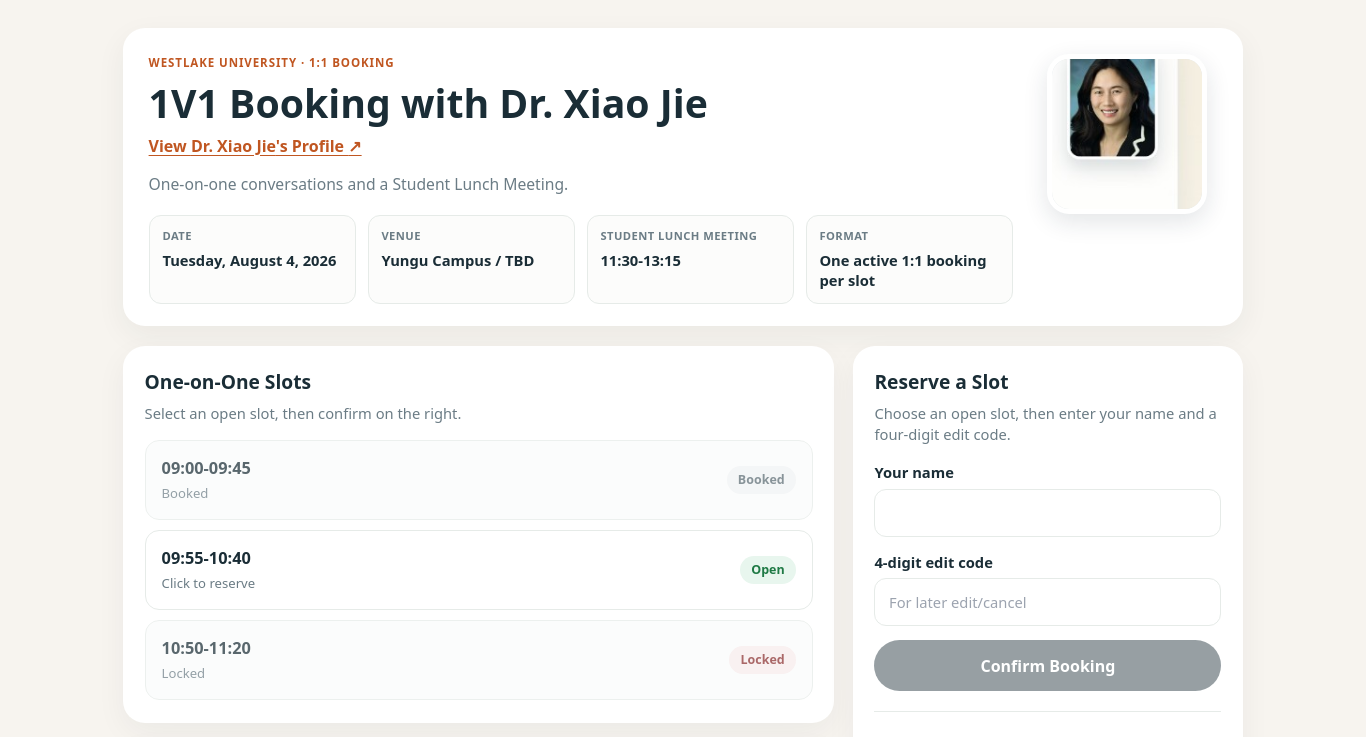
Scenario: keeps typed name and edit code after a booking conflict
The width and height of the screenshot is (1366, 737).
Click the button with aria-label "09:55-10:40 Open" at (183,558), box [145, 530, 813, 610]
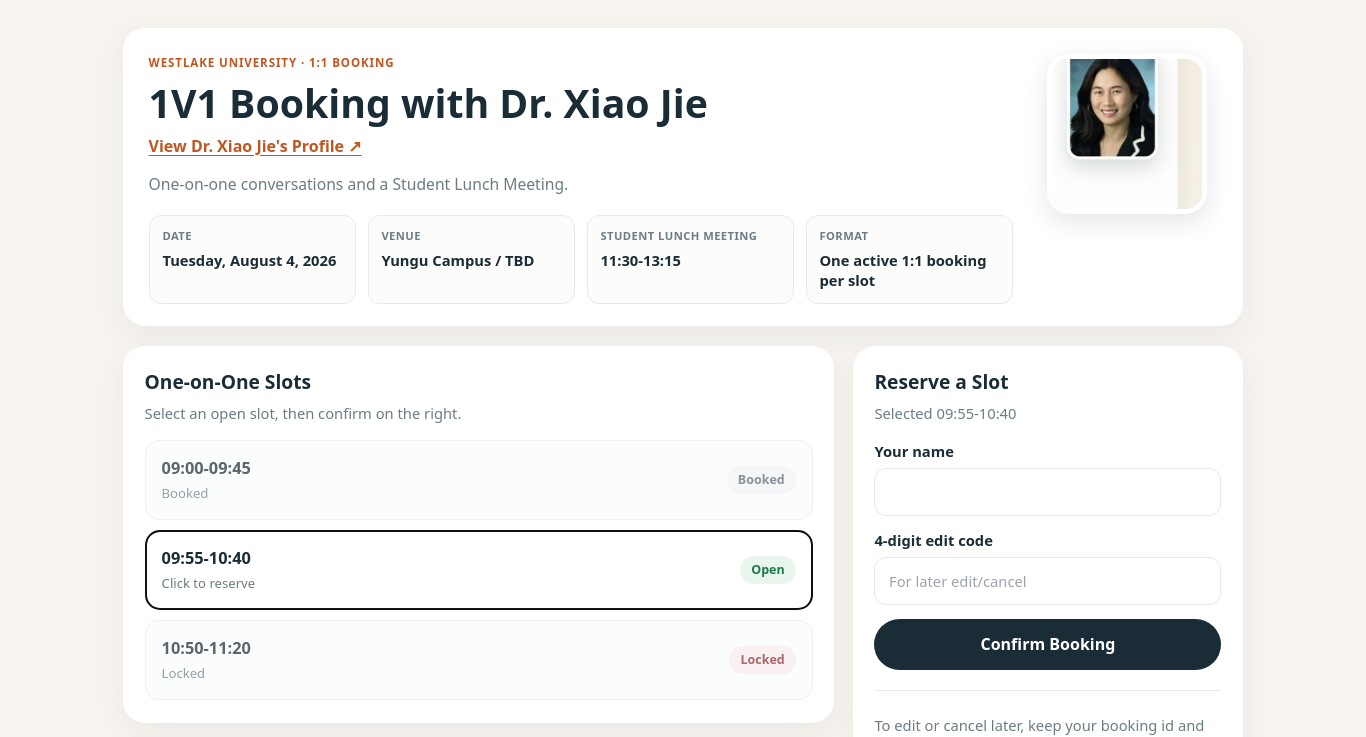
Type "Ada" into the field labelled "Your name" at (1048,492), box [874, 468, 1221, 516]
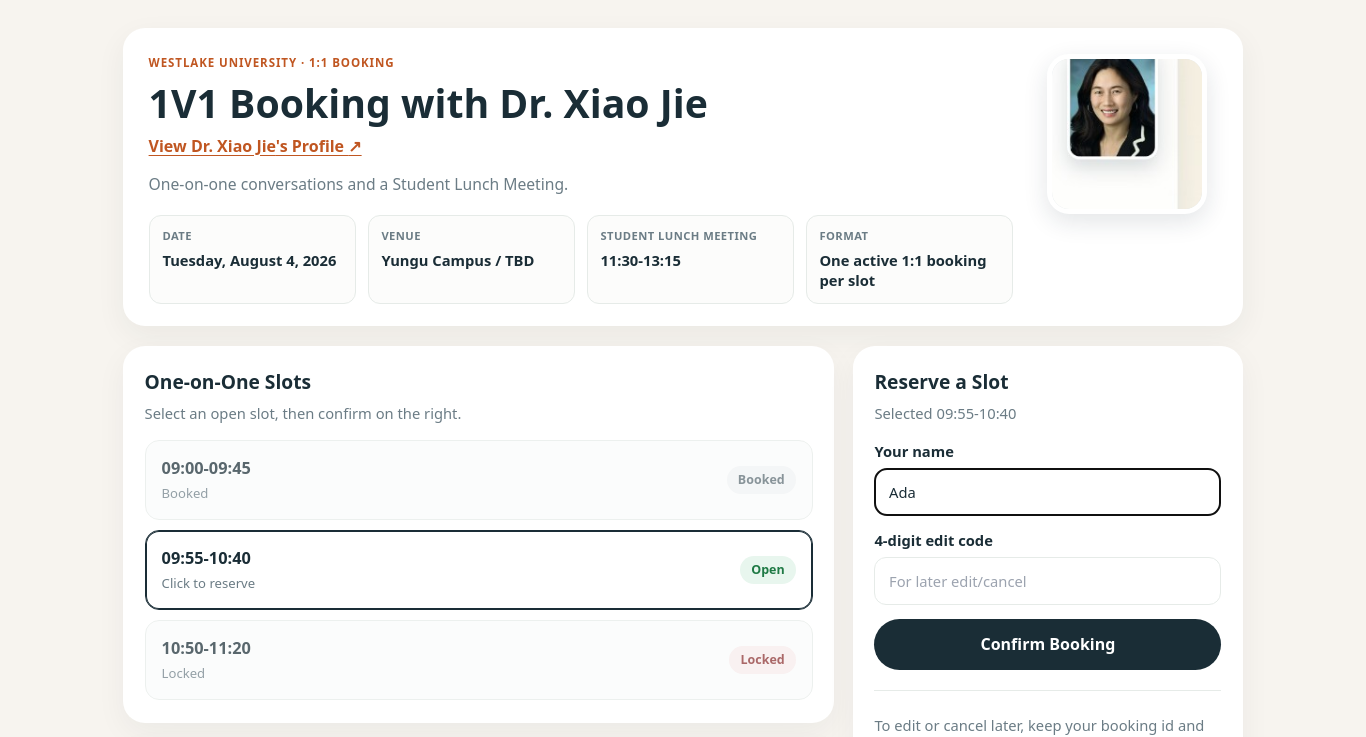
Type "1234" into the field labelled "4-digit edit code" at (1048,581), box [874, 557, 1221, 605]
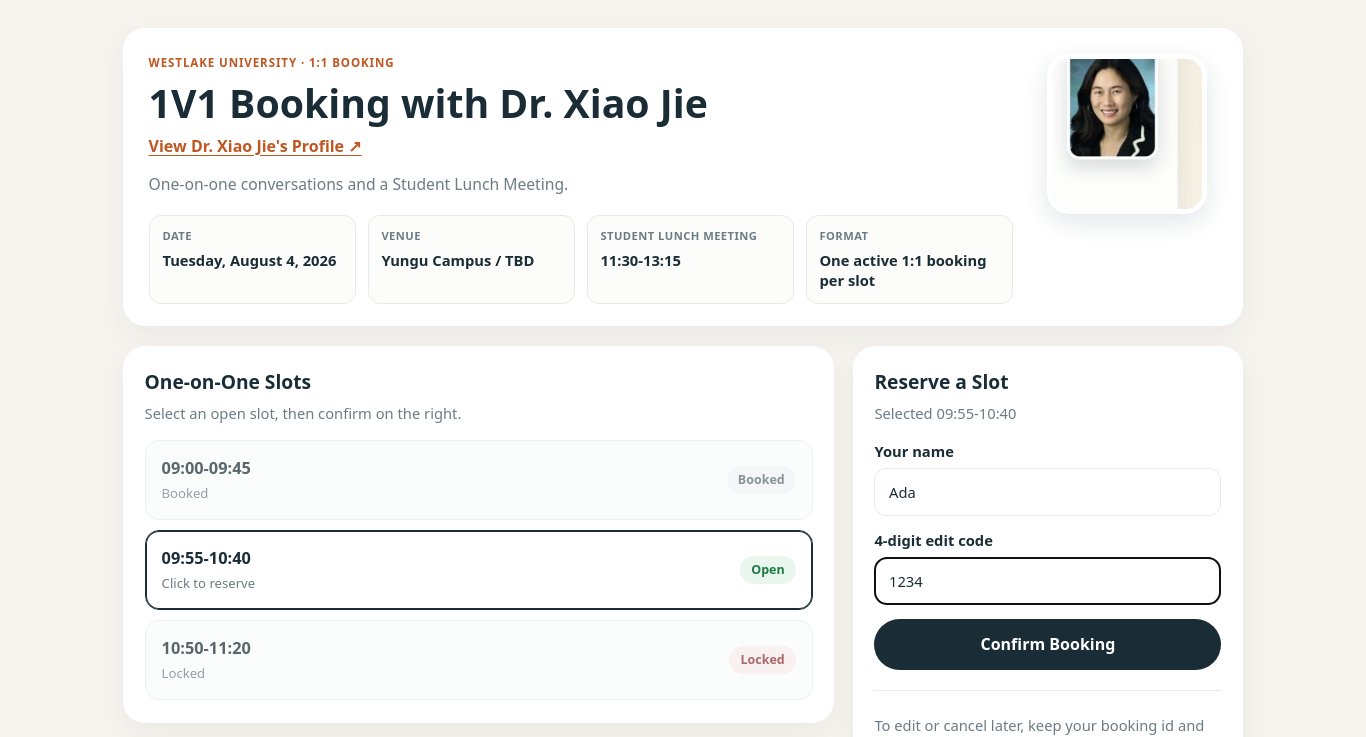
Click the button "Confirm Booking" at (1048,644), box [874, 619, 1221, 670]
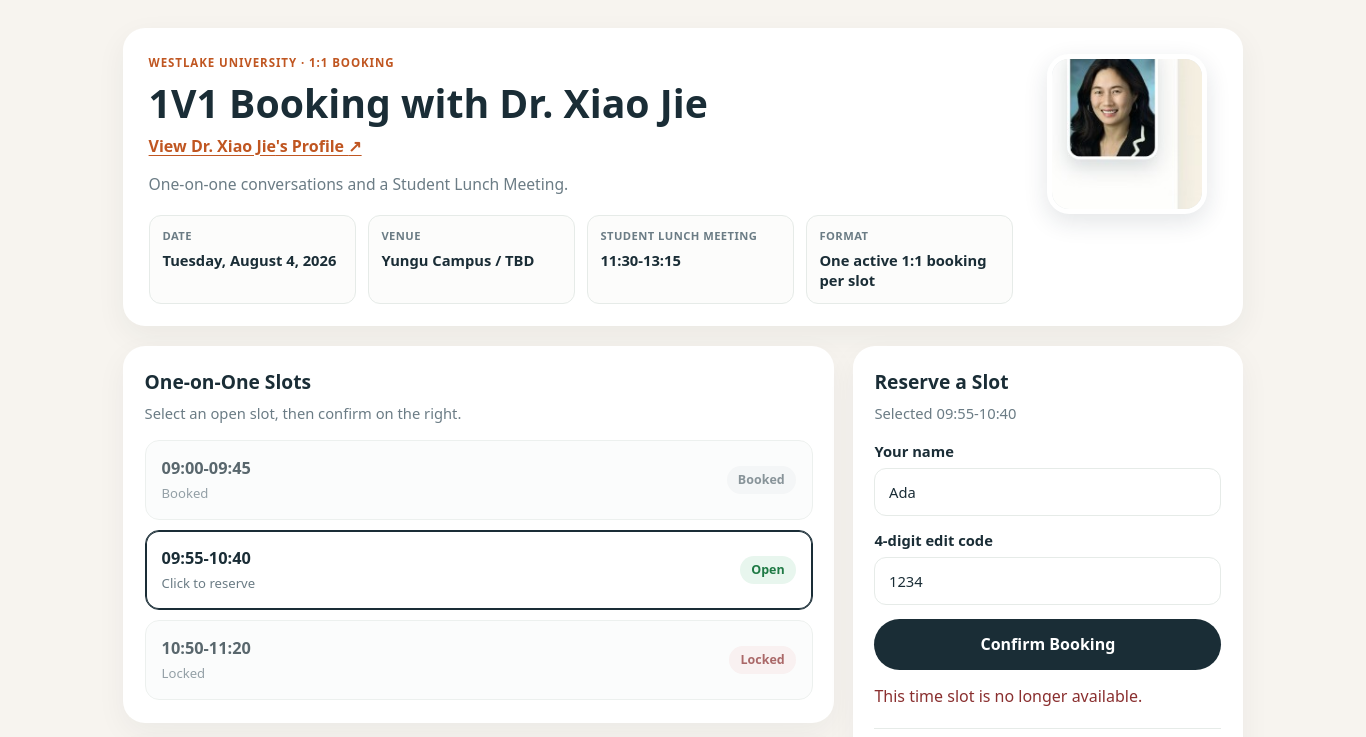
Result: the text "This time slot is no longer available." is shown at [874, 684, 1142, 706]
